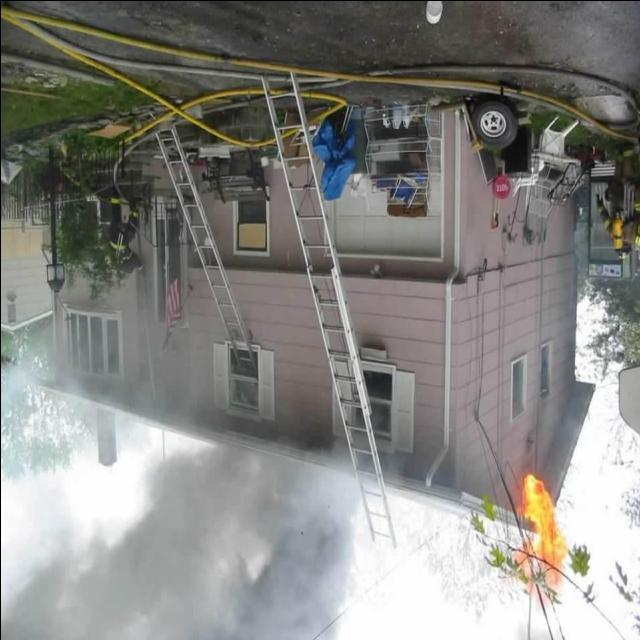Fire: (514, 468, 570, 582)
